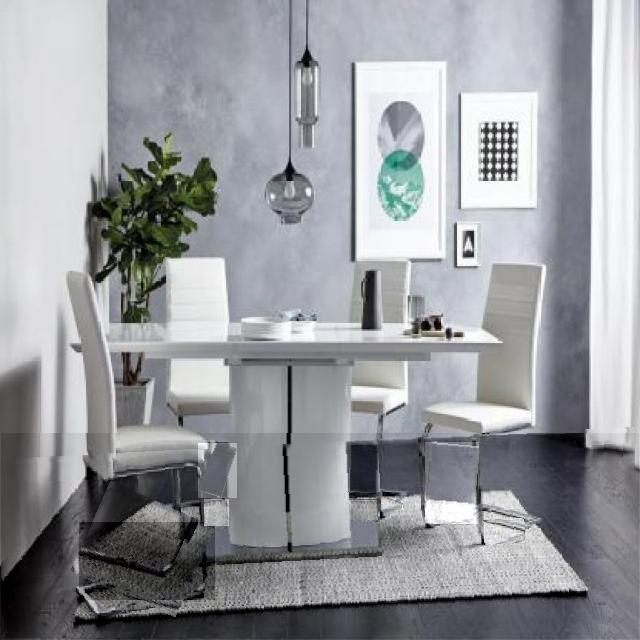floor: (2, 433, 639, 639), (80, 522, 215, 600), (426, 443, 479, 524), (198, 443, 237, 498), (350, 445, 378, 493), (485, 521, 525, 545), (205, 499, 229, 526), (351, 501, 378, 522), (382, 499, 403, 509)
